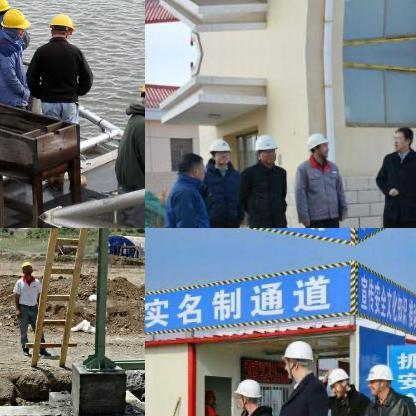Helmet: (279, 338, 315, 380), (364, 360, 394, 396), (251, 131, 278, 164), (235, 374, 261, 408), (1, 7, 29, 36), (47, 12, 73, 40), (326, 364, 350, 394), (304, 131, 329, 159), (206, 136, 228, 166), (18, 258, 32, 278), (0, 0, 8, 21)
